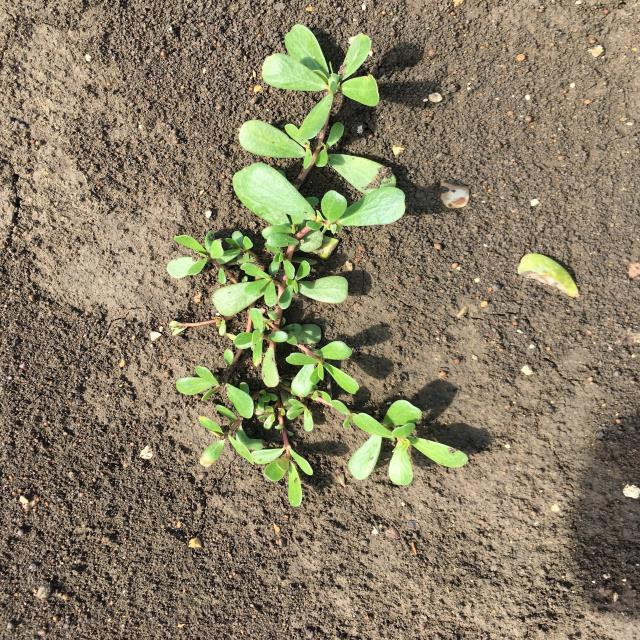Purslane: (166, 24, 468, 507)
